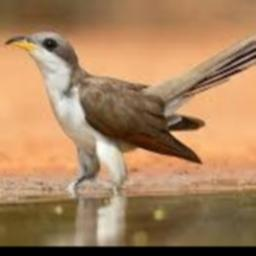Cuckoo: (4, 21, 256, 192)
